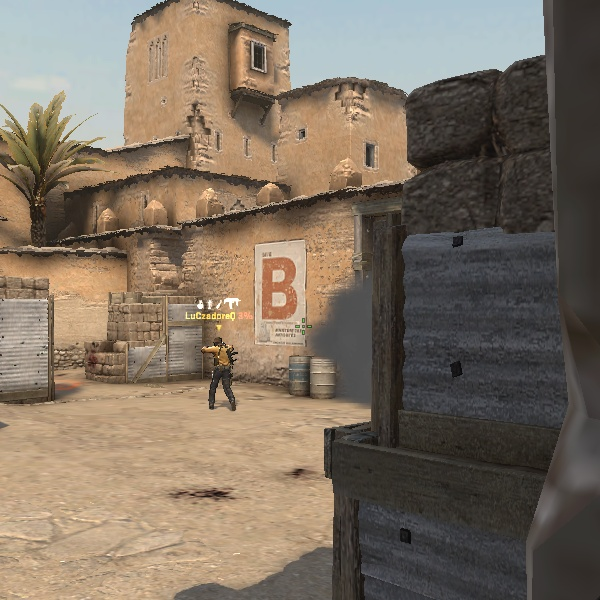t_body: (197, 335, 243, 412)
t_head: (212, 336, 224, 349)
